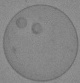small: (30, 23, 42, 34), (16, 18, 27, 27)
